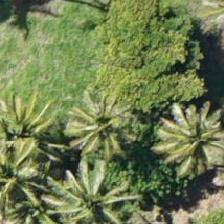coconut_tree: (59, 82, 149, 172), (144, 88, 223, 178), (39, 150, 129, 223), (0, 80, 63, 170), (0, 126, 47, 216)
